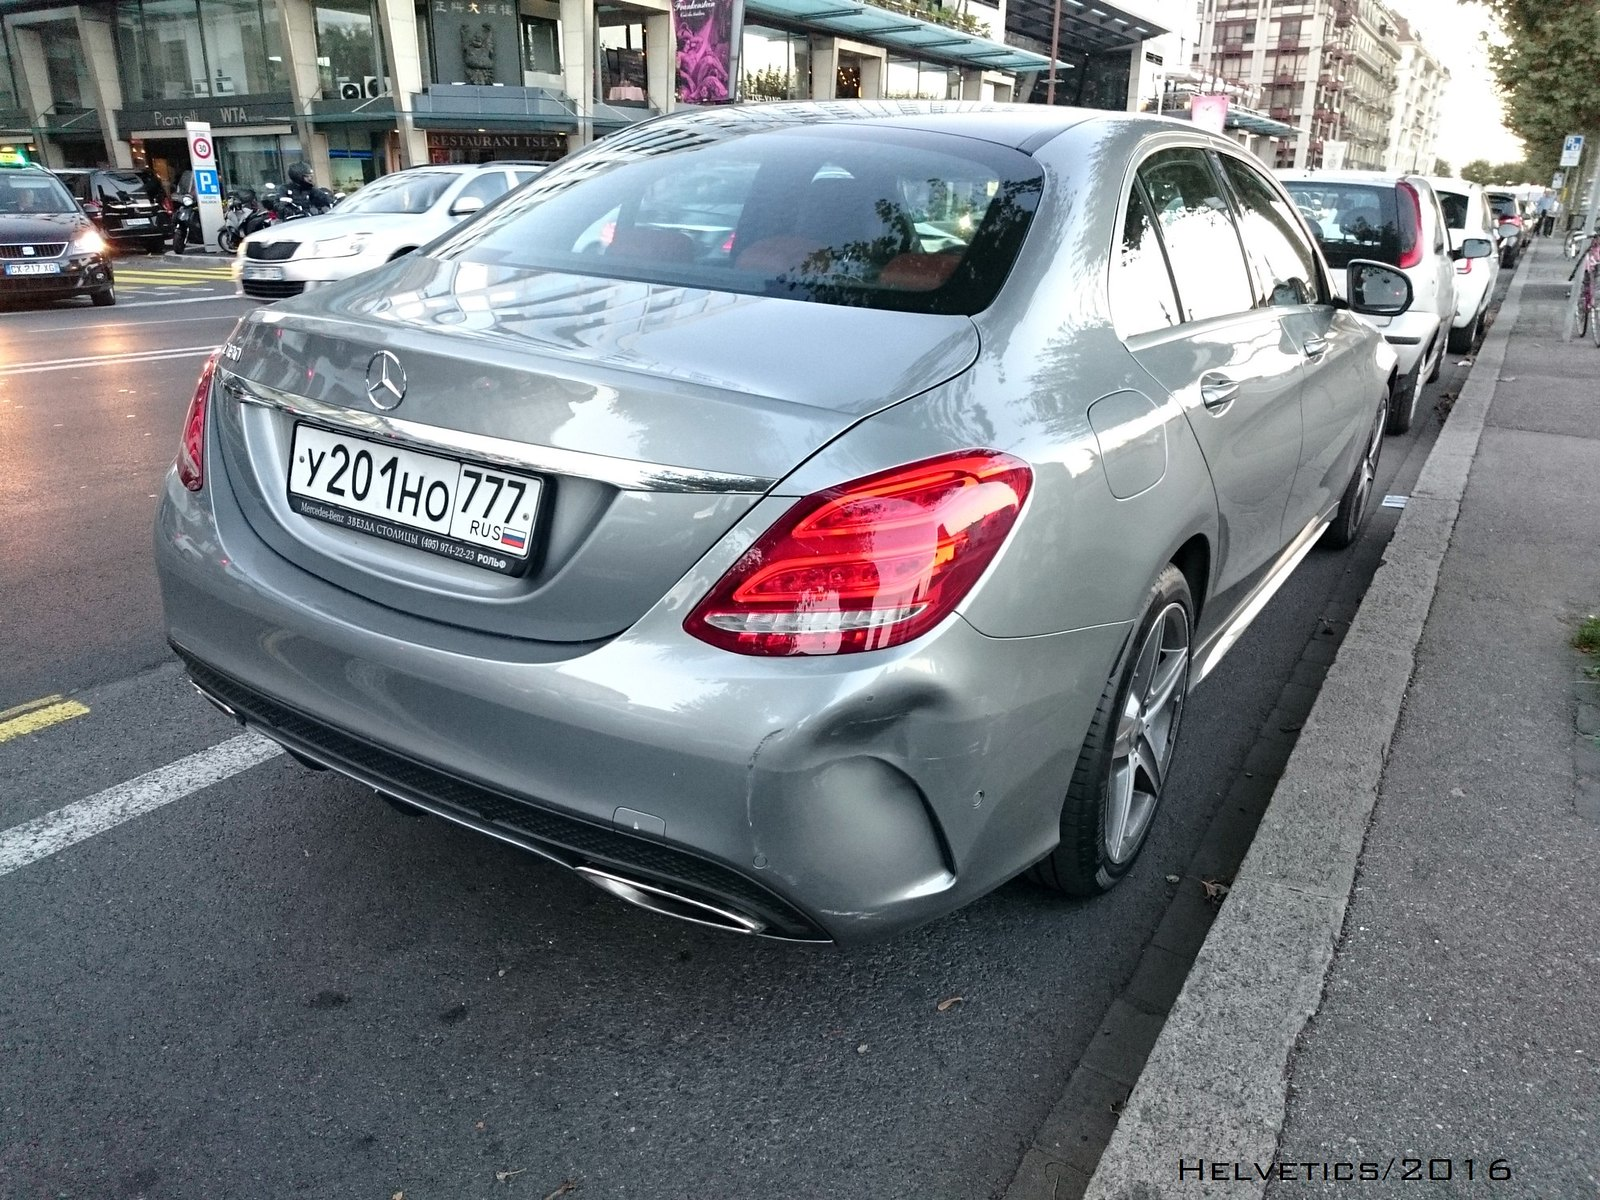car_rear: (151, 300, 866, 953)
plate: (287, 419, 543, 561)
